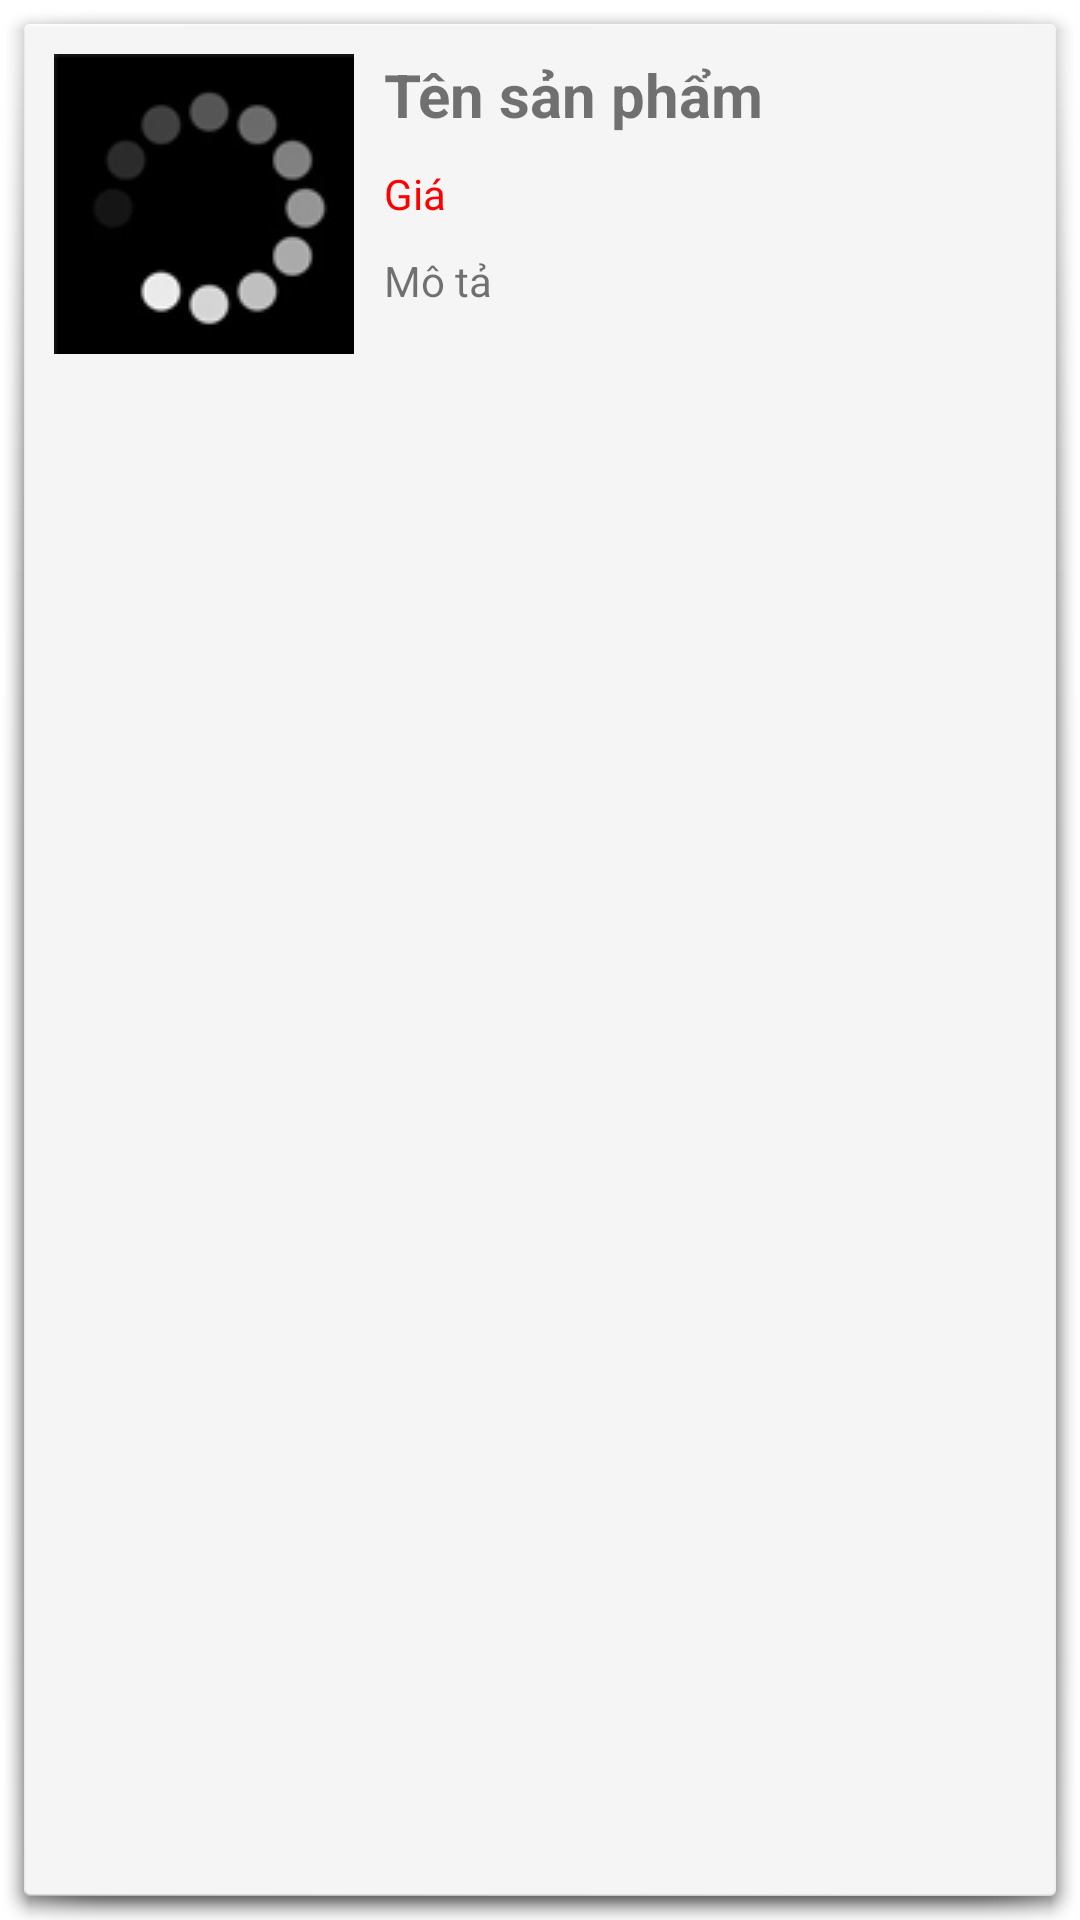

Where icons sit on this 1080px×1920px app screen, as (x1, y1, x2, y2):
loading: (54, 54, 354, 354)
